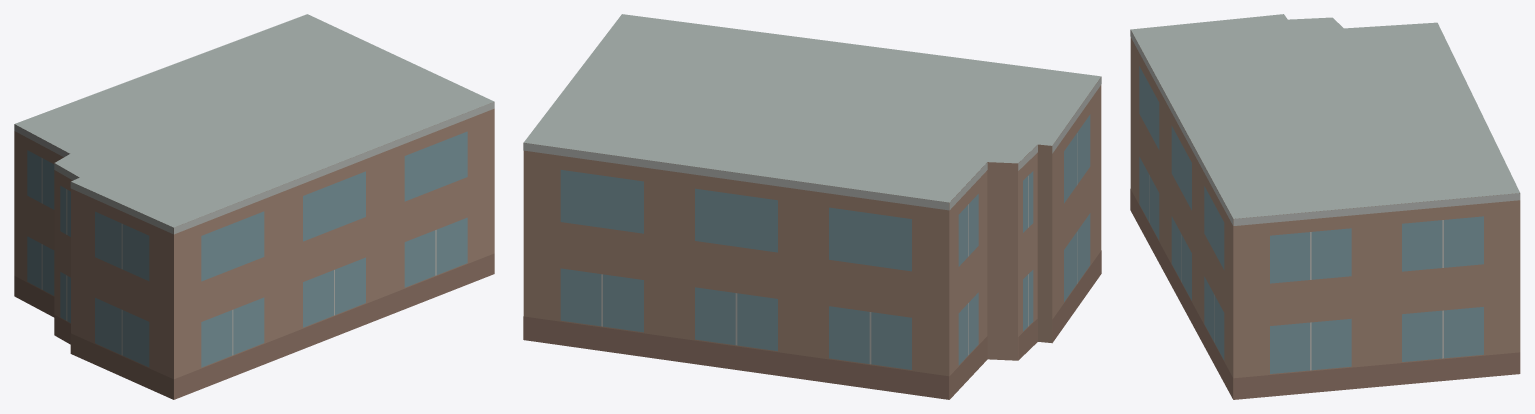
Rendered from survey-upis-33004829.glb.
3 renders of one model, left to right at view 1: azimuth 30°, elevation 25°; view 2: azimuth 150°, elevation 25°; view 3: azimuth 270°, elevation 25°, orthographic. The views are drawn at different scales.
Parts seen in each view (by area): view 1: survey-upis-33004829.tmp; view 2: survey-upis-33004829.tmp; view 3: survey-upis-33004829.tmp.
Part boxes in pixels (x1,y1,x2,y2): survey-upis-33004829.tmp: [14, 14, 494, 399]; survey-upis-33004829.tmp: [523, 14, 1101, 399]; survey-upis-33004829.tmp: [1130, 14, 1520, 399].
Size of the model in its own units: 14.82 by 6.1 by 11.92.
